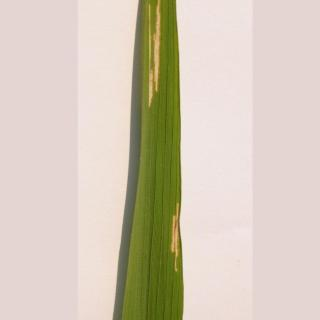Hawar-Daun: (133, 0, 175, 105), (164, 188, 183, 283)
